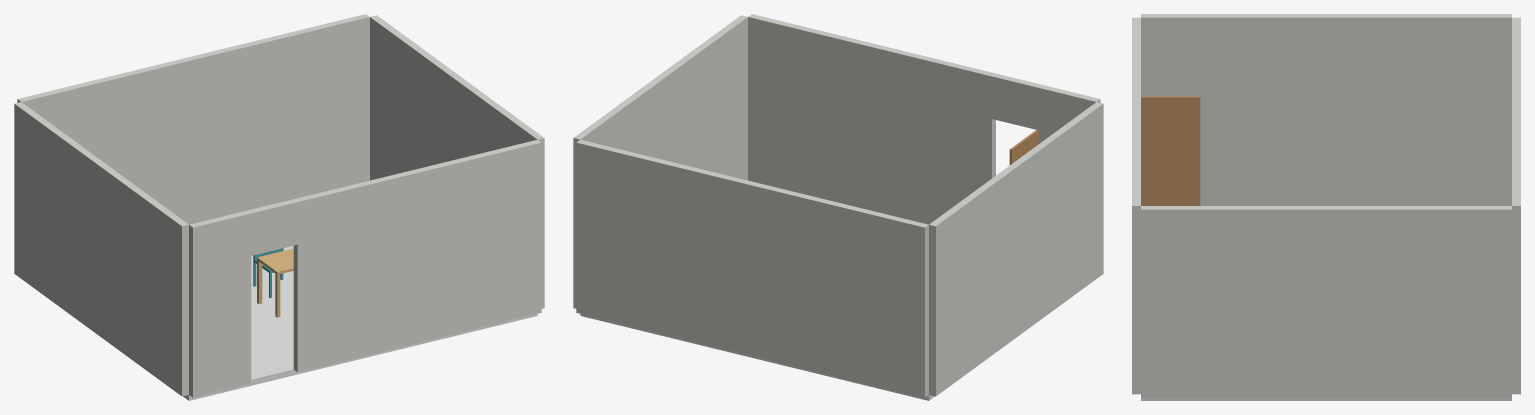
3 renders of one model, left to right at view 1: azimuth 30°, elevation 25°; view 2: azimuth 150°, elevation 25°; view 3: azimuth 270°, elevation 25°, orthographic. The views are drawn at different scales.
Visible parts, largest first — view 1: room:south:full, room:north:high, room:west:full, room:east:full, room:north:low, room:floor, room:north:lintel, door-seat:table:top; view 2: room:south:full, room:north:high, room:west:full, room:east:full, room:north:lintel, room:north:low, room:floor, door:leaf; view 3: room:east:full, room:west:full, door:leaf, room:south:full, room:north:high, room:floor.
Part boxes in pixels (bbox=[...]): room:south:full: bbox=[17, 14, 369, 224]; room:north:high: bbox=[293, 139, 541, 372]; room:west:full: bbox=[14, 102, 188, 396]; room:east:full: bbox=[370, 15, 544, 308]; room:north:low: bbox=[189, 210, 251, 397]; room:floor: bbox=[183, 245, 537, 400]; room:north:lintel: bbox=[247, 199, 297, 255]; door-seat:table:top: bbox=[257, 248, 293, 274]; room:south:full: bbox=[576, 139, 928, 397]; room:north:high: bbox=[748, 14, 995, 224]; room:west:full: bbox=[929, 102, 1103, 396]; room:east:full: bbox=[573, 15, 747, 308]; room:north:lintel: bbox=[992, 73, 1041, 130]; room:north:low: bbox=[1038, 85, 1100, 143]; room:floor: bbox=[580, 314, 934, 400]; door:leaf: bbox=[1009, 130, 1038, 164]; room:east:full: bbox=[1141, 206, 1511, 397]; room:west:full: bbox=[1141, 14, 1511, 205]; door:leaf: bbox=[1141, 96, 1200, 205]; room:south:full: bbox=[1512, 17, 1520, 394]; room:north:high: bbox=[1132, 74, 1140, 394]; room:floor: bbox=[1141, 398, 1511, 400].
Size of the model in its own units: 6.24 by 2.9 by 5.24.
